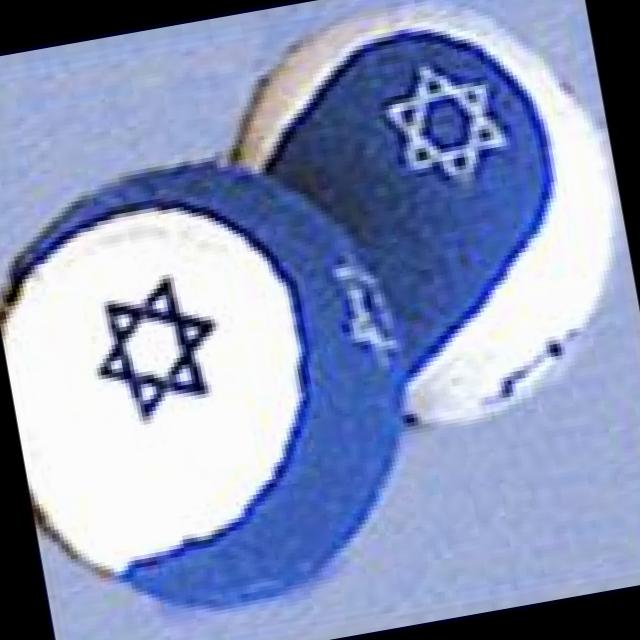Tennis Ball: (0, 160, 407, 611), (231, 0, 613, 427)
